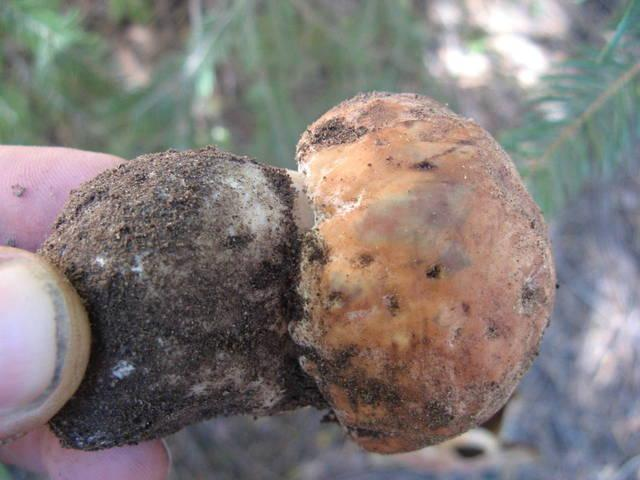edible_mushroom: (33, 90, 552, 452)
